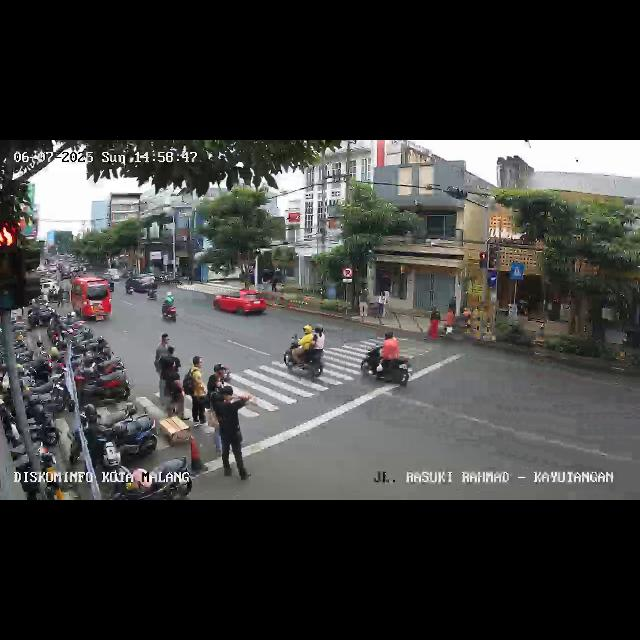car: (70, 276, 112, 322), (213, 290, 267, 320), (124, 274, 158, 298)
motorcycle: (360, 332, 412, 388), (282, 324, 328, 386), (160, 293, 178, 323)
person: (210, 386, 248, 476), (153, 332, 173, 412), (160, 347, 182, 418), (205, 374, 223, 458), (187, 357, 207, 425), (428, 306, 439, 342), (359, 283, 369, 319)
